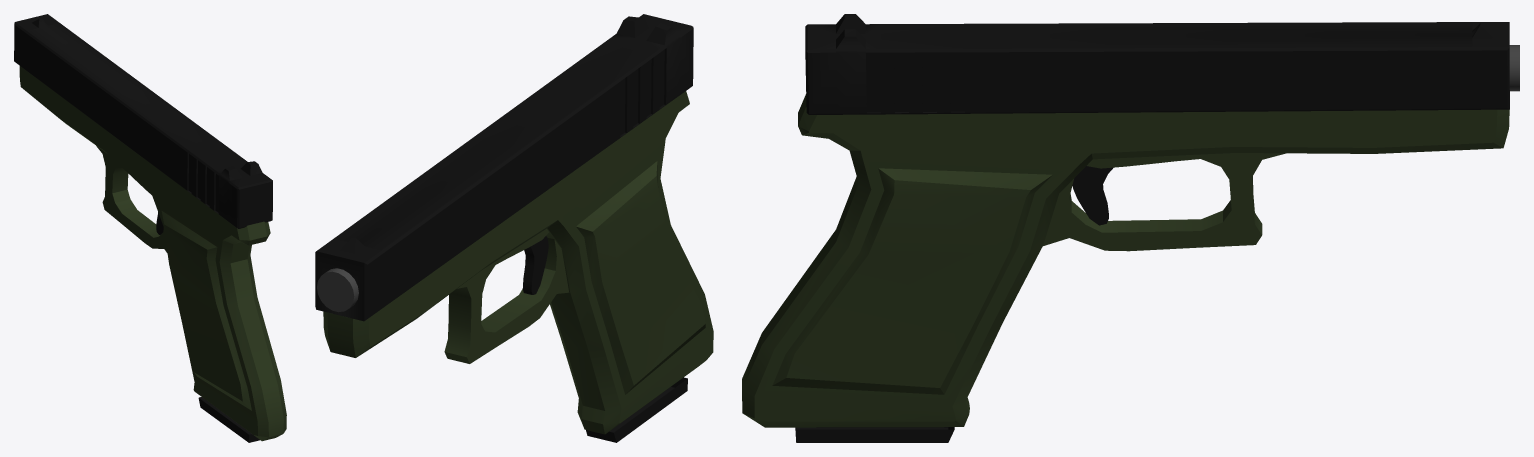
Rendered from blocky glocky.FBX.
The picture shows the model from 3 angles, left to right: view 1: azimuth 30°, elevation 25°; view 2: azimuth 150°, elevation 25°; view 3: azimuth 270°, elevation 25°; orthographic projection. The views are drawn at different scales.
Parts seen in each view (by area): view 1: Trigger; view 2: Trigger; view 3: Trigger.
Boxes of the visible parts, box(x1,y1,x2,y2) form: Trigger: box(14, 14, 286, 442); Trigger: box(315, 14, 713, 442); Trigger: box(742, 14, 1519, 442).
Bounding box in the file's own units: 11.04 × 65.63 × 112.
